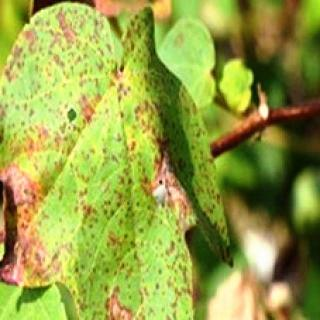leaf spot: (3, 8, 231, 320)
